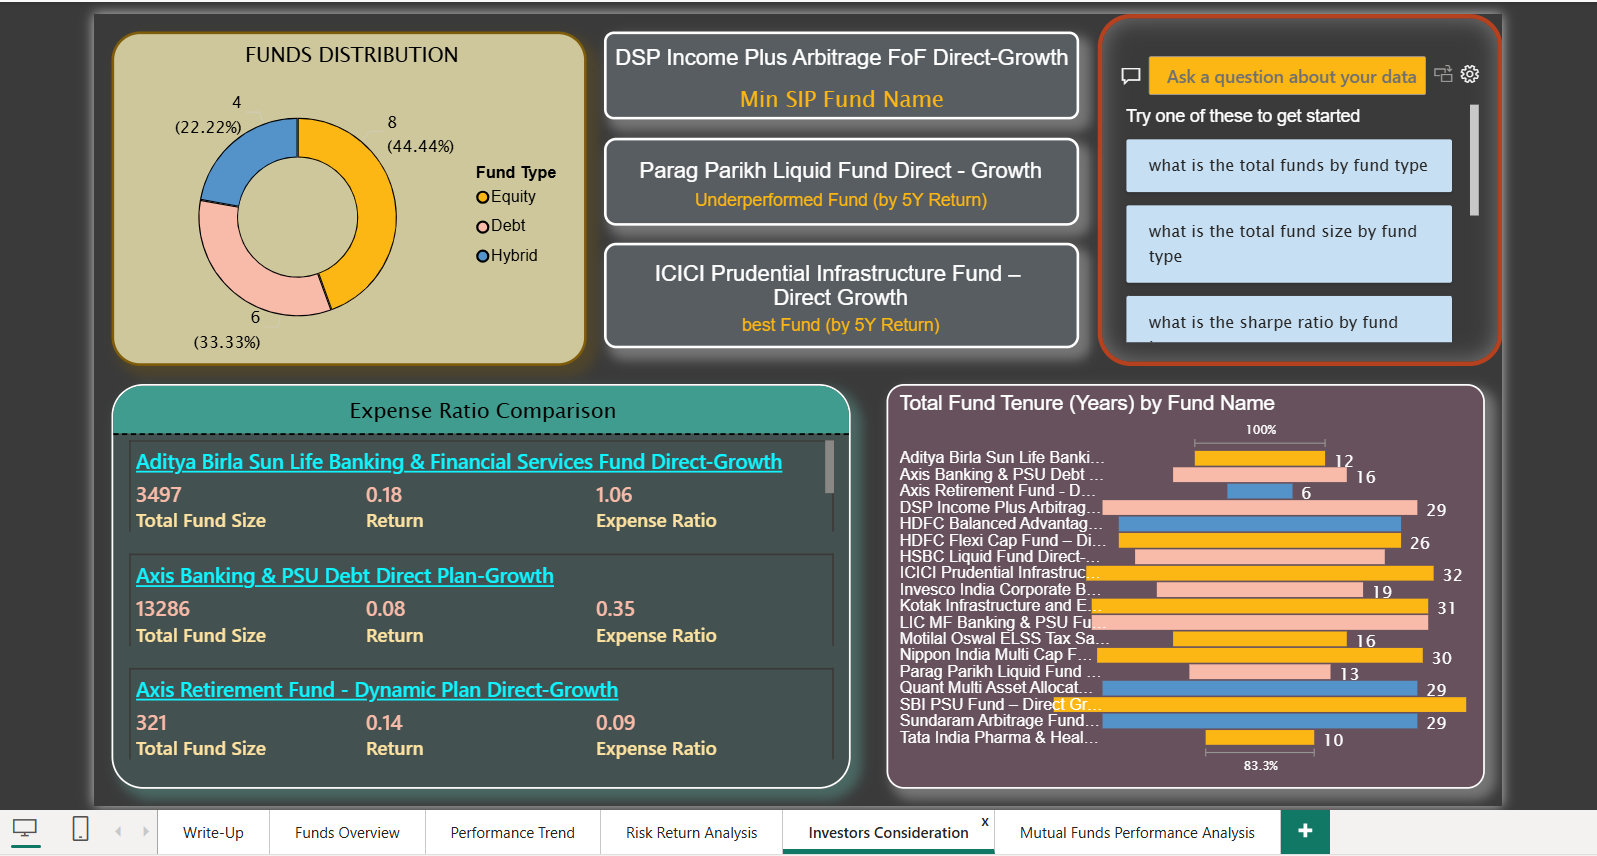

This screenshot's page, from the dashboard's own definition file:
{"tool":"powerbi","page":{"name":"Investors Consideration","canvas":[1280,720],"ordinal":4},"visuals":[{"type":"donutChart","title":"FUNDS DISTRIBUTION","fields":{"Category":["MF_Data.Fund Type"],"Y":["MF_Data.Total Funds"]},"box":[16,16,432,304],"z":0},{"type":"card","fields":{"Values":["MF_Data.Min SIP Fund Name"]},"box":[464,16,432,80],"z":1000},{"type":"multiRowCard","title":"Expense Ratio Comparison","fields":{"Values":["MF_Data.Fund Name","MF_Data.Total Fund Size","MF_Data.Returns since inception","MF_Data.Expense Ratio (% – Direct)"]},"box":[16,336,672,368],"z":2000},{"type":"qnaVisual","box":[912,0,368,320],"z":3000},{"type":"card","fields":{"Values":["MF_Data.Underperformed Fund (by 5Y Return)"]},"box":[464,112,432,80],"z":4000},{"type":"funnel","fields":{"Category":["MF_Data.Fund Name"],"Y":["Sum(MF_Data.Fund Tenure (Years))"]},"box":[720,336,544,368],"z":5000},{"type":"card","fields":{"Values":["MF_Data.best Fund (by 5Y Return)"]},"box":[464,208,432,96],"z":6000}]}

Visuals, with their boxes on the page's 1280x720 design canvas (x1, y1, x2, y2). These are canvas units, not pixel positions in the 1597x856 screenshot, which may show the page scaled, cropped or inside an application window:
"FUNDS DISTRIBUTION" donutChart: 16/16/448/320
card - MF_Data.Min SIP Fund Name: 464/16/896/96
"Expense Ratio Comparison" multiRowCard: 16/336/688/704
qnaVisual: 912/0/1280/320
card - MF_Data.Underperformed Fund (by 5Y Return): 464/112/896/192
funnel - MF_Data.Fund Name x Sum(MF_Data.Fund Tenure (Years)): 720/336/1264/704
card - MF_Data.best Fund (by 5Y Return): 464/208/896/304
